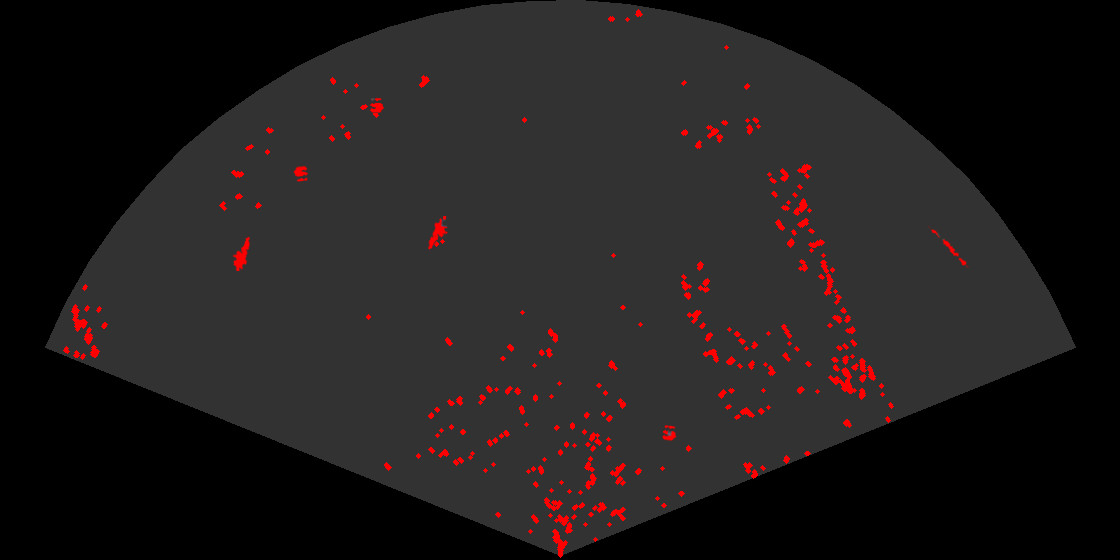ball: (661, 424, 678, 443), (292, 164, 309, 183), (368, 97, 385, 113)
chain: (928, 224, 971, 268)
frogman: (427, 216, 449, 252), (231, 236, 251, 271)
